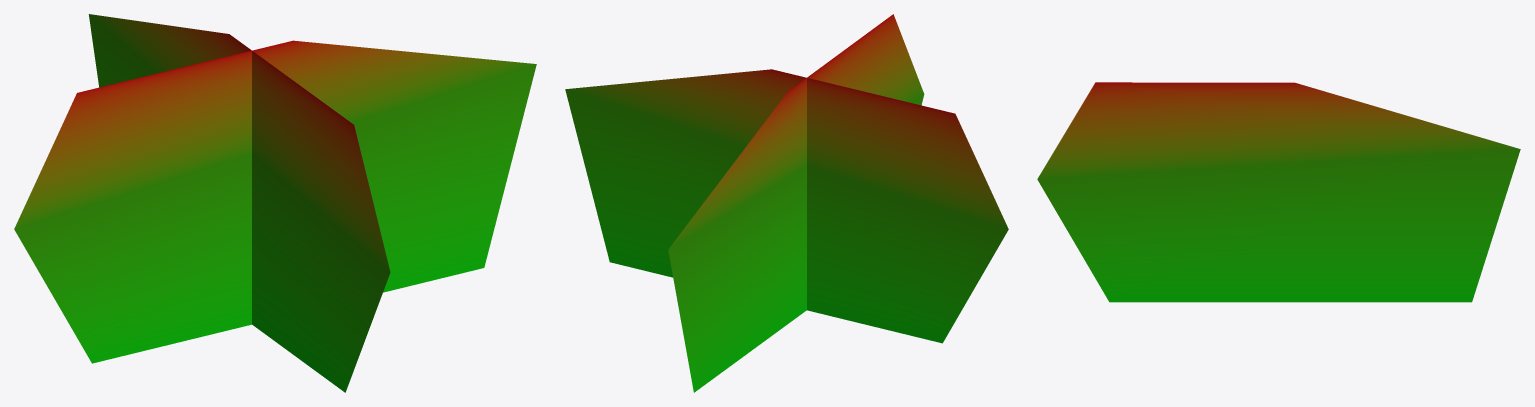
Rendered from Var3_LOD4.fbx.
The picture shows the model from 3 angles, left to right: view 1: azimuth 30°, elevation 25°; view 2: azimuth 150°, elevation 25°; view 3: azimuth 270°, elevation 25°; orthographic projection. The views are drawn at different scales.
Visible parts, largest first — view 1: _wc5l_Var3_LOD4; view 2: _wc5l_Var3_LOD4; view 3: _wc5l_Var3_LOD4.
Part boxes in pixels (<box>): _wc5l_Var3_LOD4: <box>14,14,536,392</box>; _wc5l_Var3_LOD4: <box>565,14,1008,392</box>; _wc5l_Var3_LOD4: <box>1037,82,1520,302</box>.
Bounding box in the file's own units: 36.33 × 18.22 × 36.33.
